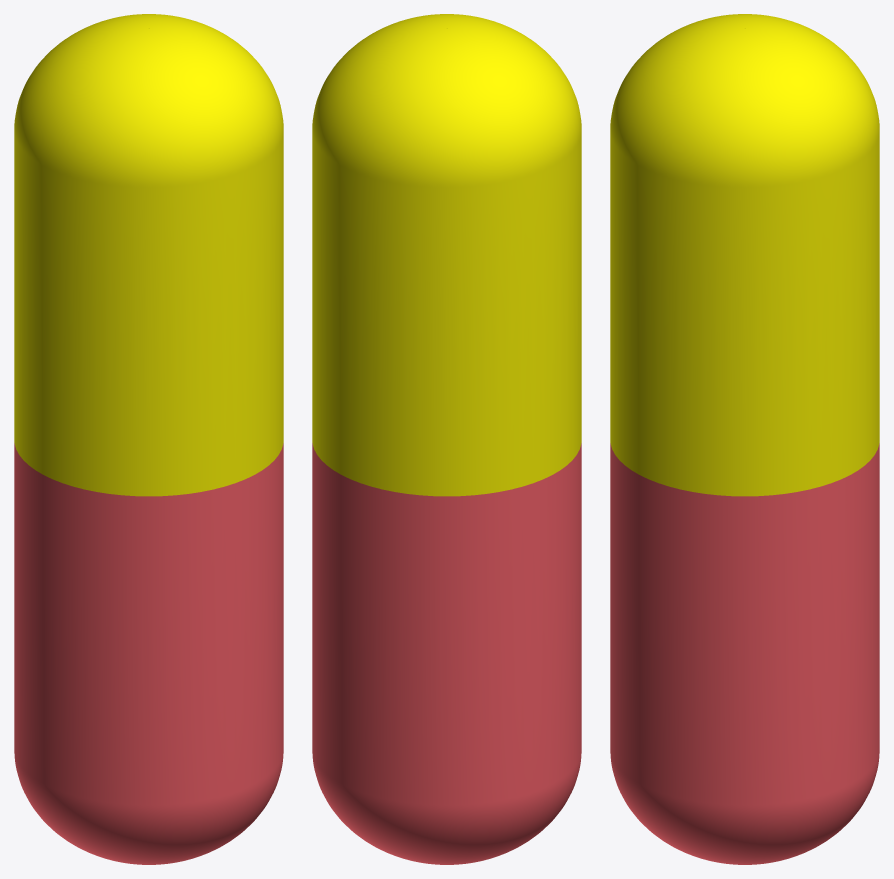
The model's file is redpill.gltf.
3 renders of one model, left to right at view 1: azimuth 30°, elevation 25°; view 2: azimuth 150°, elevation 25°; view 3: azimuth 270°, elevation 25°, orthographic.
Bounding box in the file's own units: 0.0446 × 0.1499 × 0.0446.
